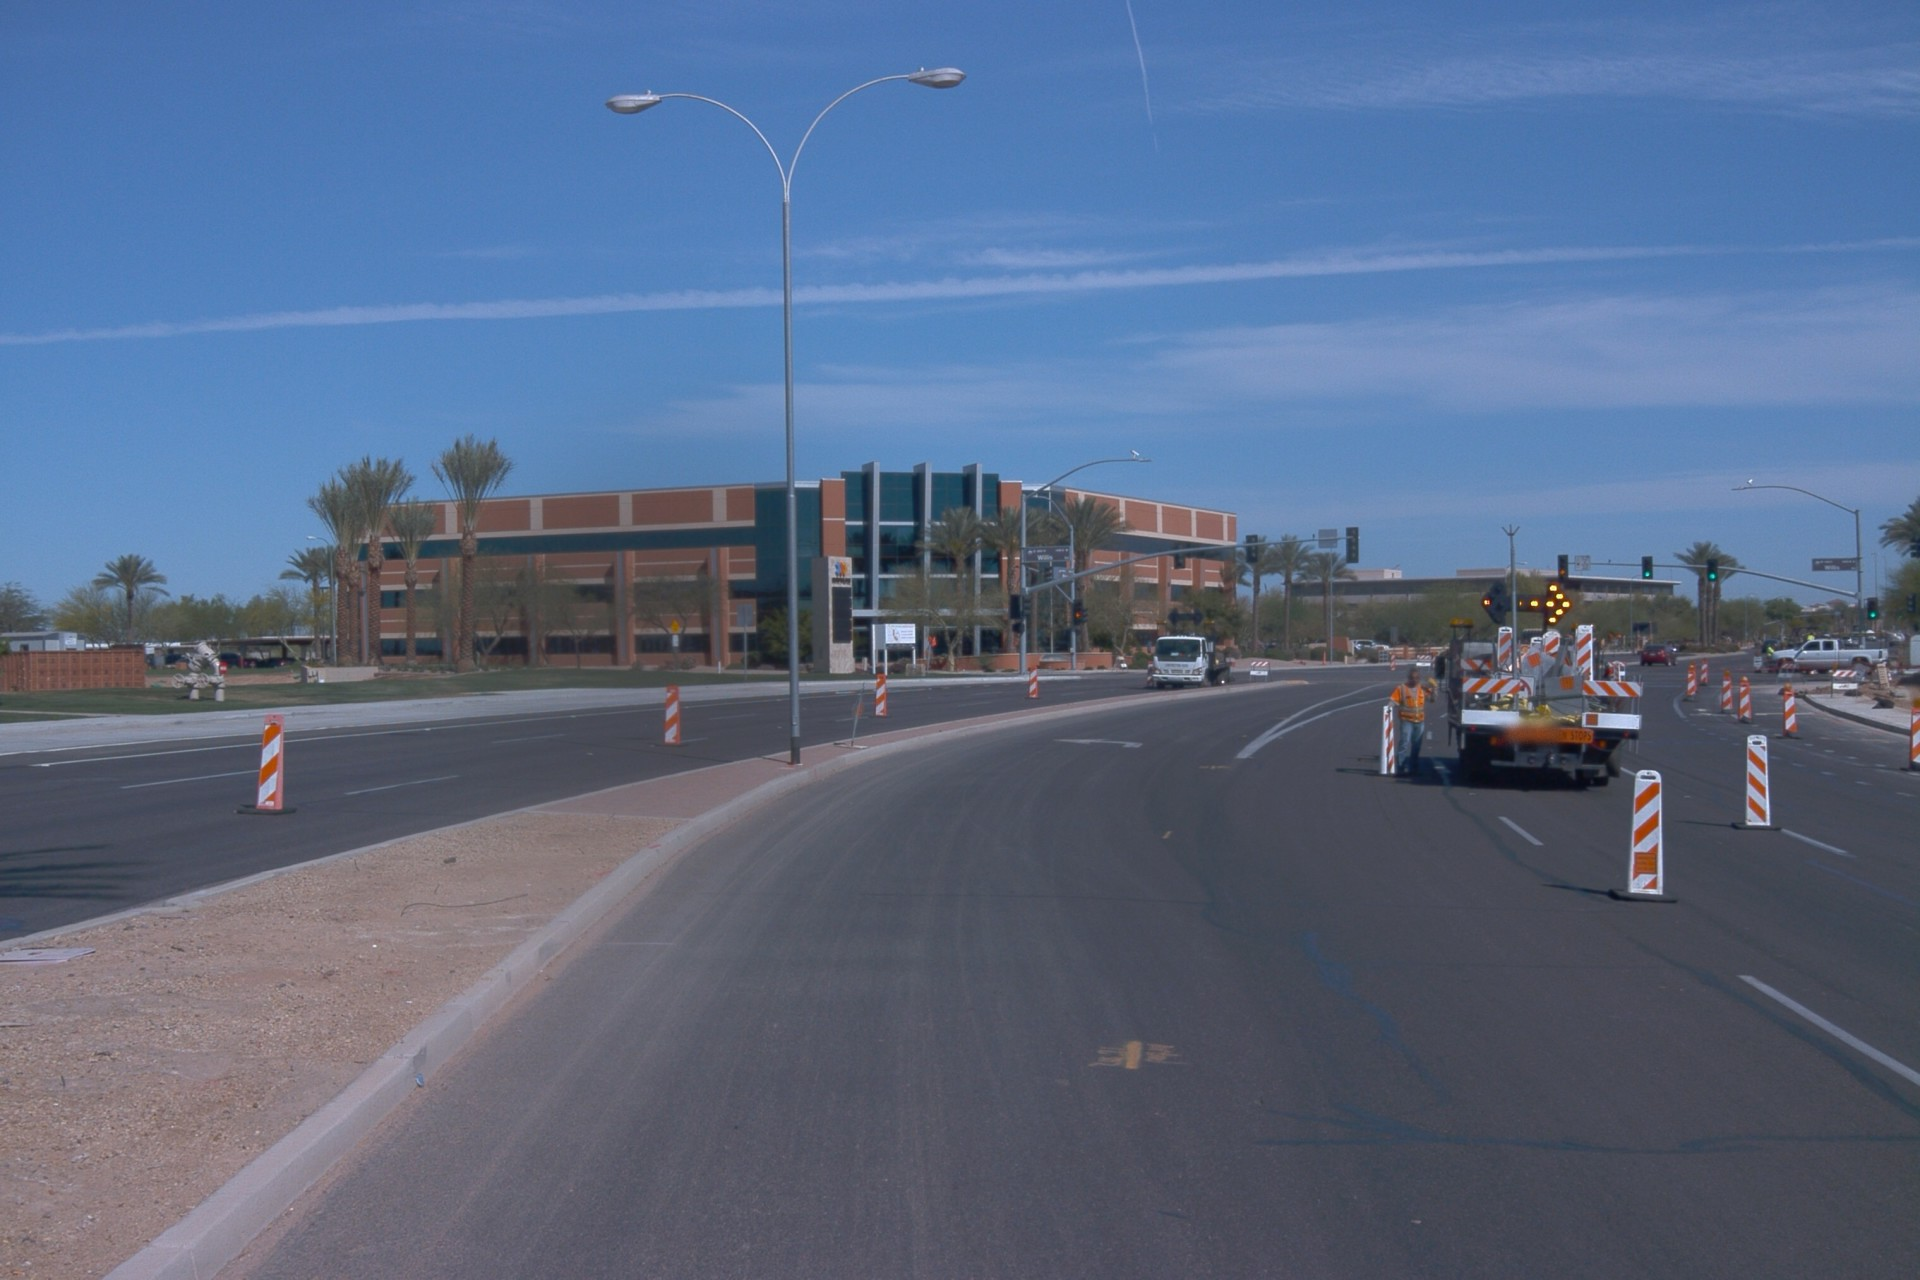TYPE_PEDESTRIAN: (1386, 669, 1440, 780)
TYPE_VEHICLE: (1427, 570, 1651, 795), (1144, 629, 1239, 694), (1765, 636, 1891, 682), (1637, 641, 1682, 670), (1511, 627, 1543, 646), (1353, 636, 1391, 652)
